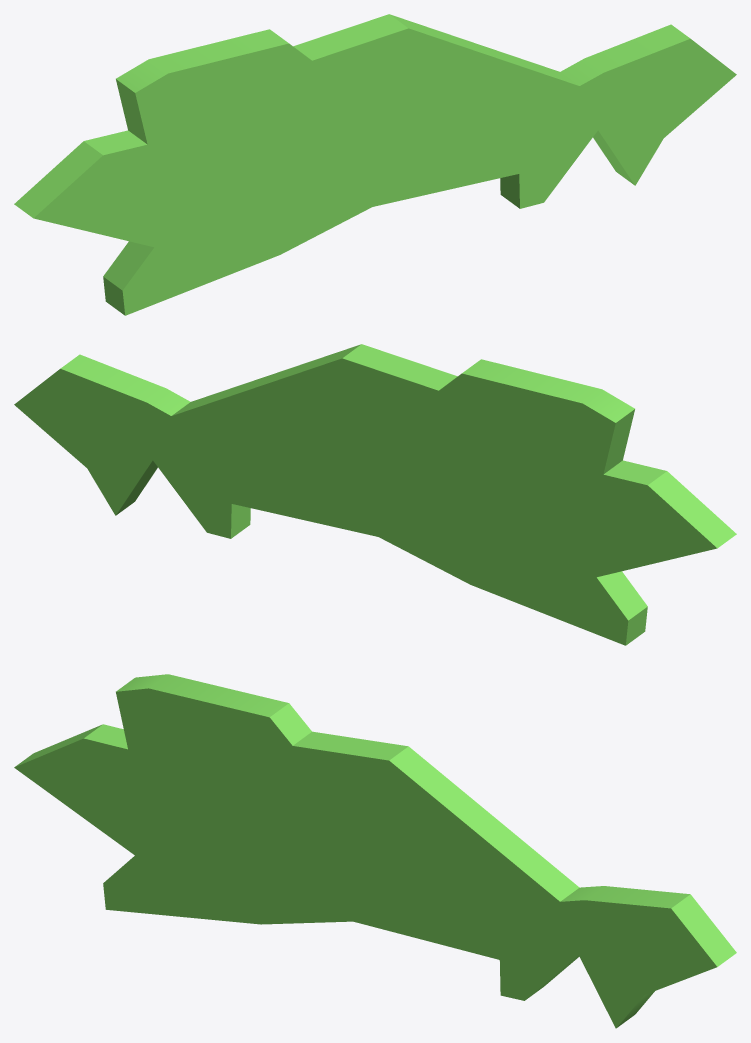
Rendered from topia.fbx.
The picture shows the model from 3 angles, top to bottom: view 1: azimuth 30°, elevation 25°; view 2: azimuth 150°, elevation 25°; view 3: azimuth 330°, elevation 25°; orthographic projection.
Parts seen in each view (by area): view 1: topia; view 2: topia; view 3: topia.
Boxes of the visible parts, x1=… form: topia: x1=14, y1=14, x2=736, y2=315; topia: x1=14, y1=344, x2=736, y2=645; topia: x1=14, y1=674, x2=736, y2=1028.
Bounding box in the file's own units: 167 × 52.67 × 8.
